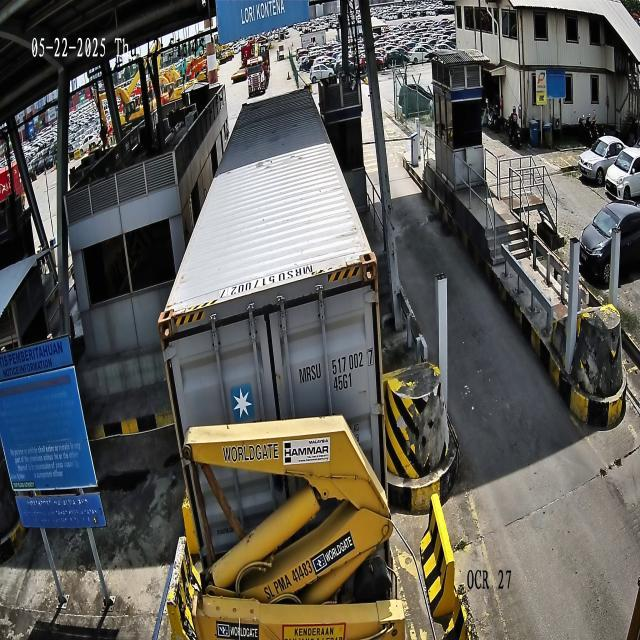ISO: (333, 371, 353, 394)
container_number: (299, 346, 374, 386)
